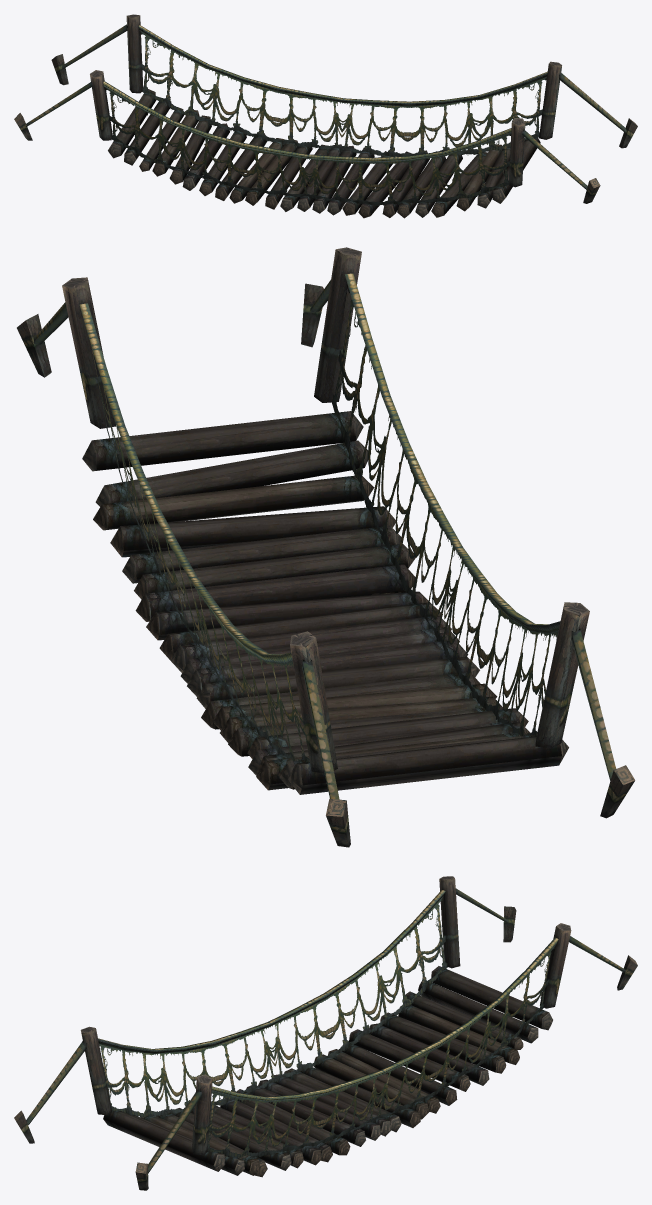
Rendered from cave_bridgediagonal_01.fbx.
The picture shows the model from 3 angles, top to bottom: view 1: azimuth 30°, elevation 25°; view 2: azimuth 150°, elevation 25°; view 3: azimuth 270°, elevation 25°; orthographic projection. The views are drawn at different scales.
Parts seen in each view (by area): view 1: cave_tileset/bridge01_shadow; view 2: cave_tileset/bridge01_shadow; view 3: cave_tileset/bridge01_shadow.
Part boxes in pixels (x1,y1,x2,y2): cave_tileset/bridge01_shadow: (14, 14, 637, 218); cave_tileset/bridge01_shadow: (17, 247, 635, 847); cave_tileset/bridge01_shadow: (14, 876, 637, 1190).
Size of the model in its own units: 13.78 by 3.4 by 13.78.
